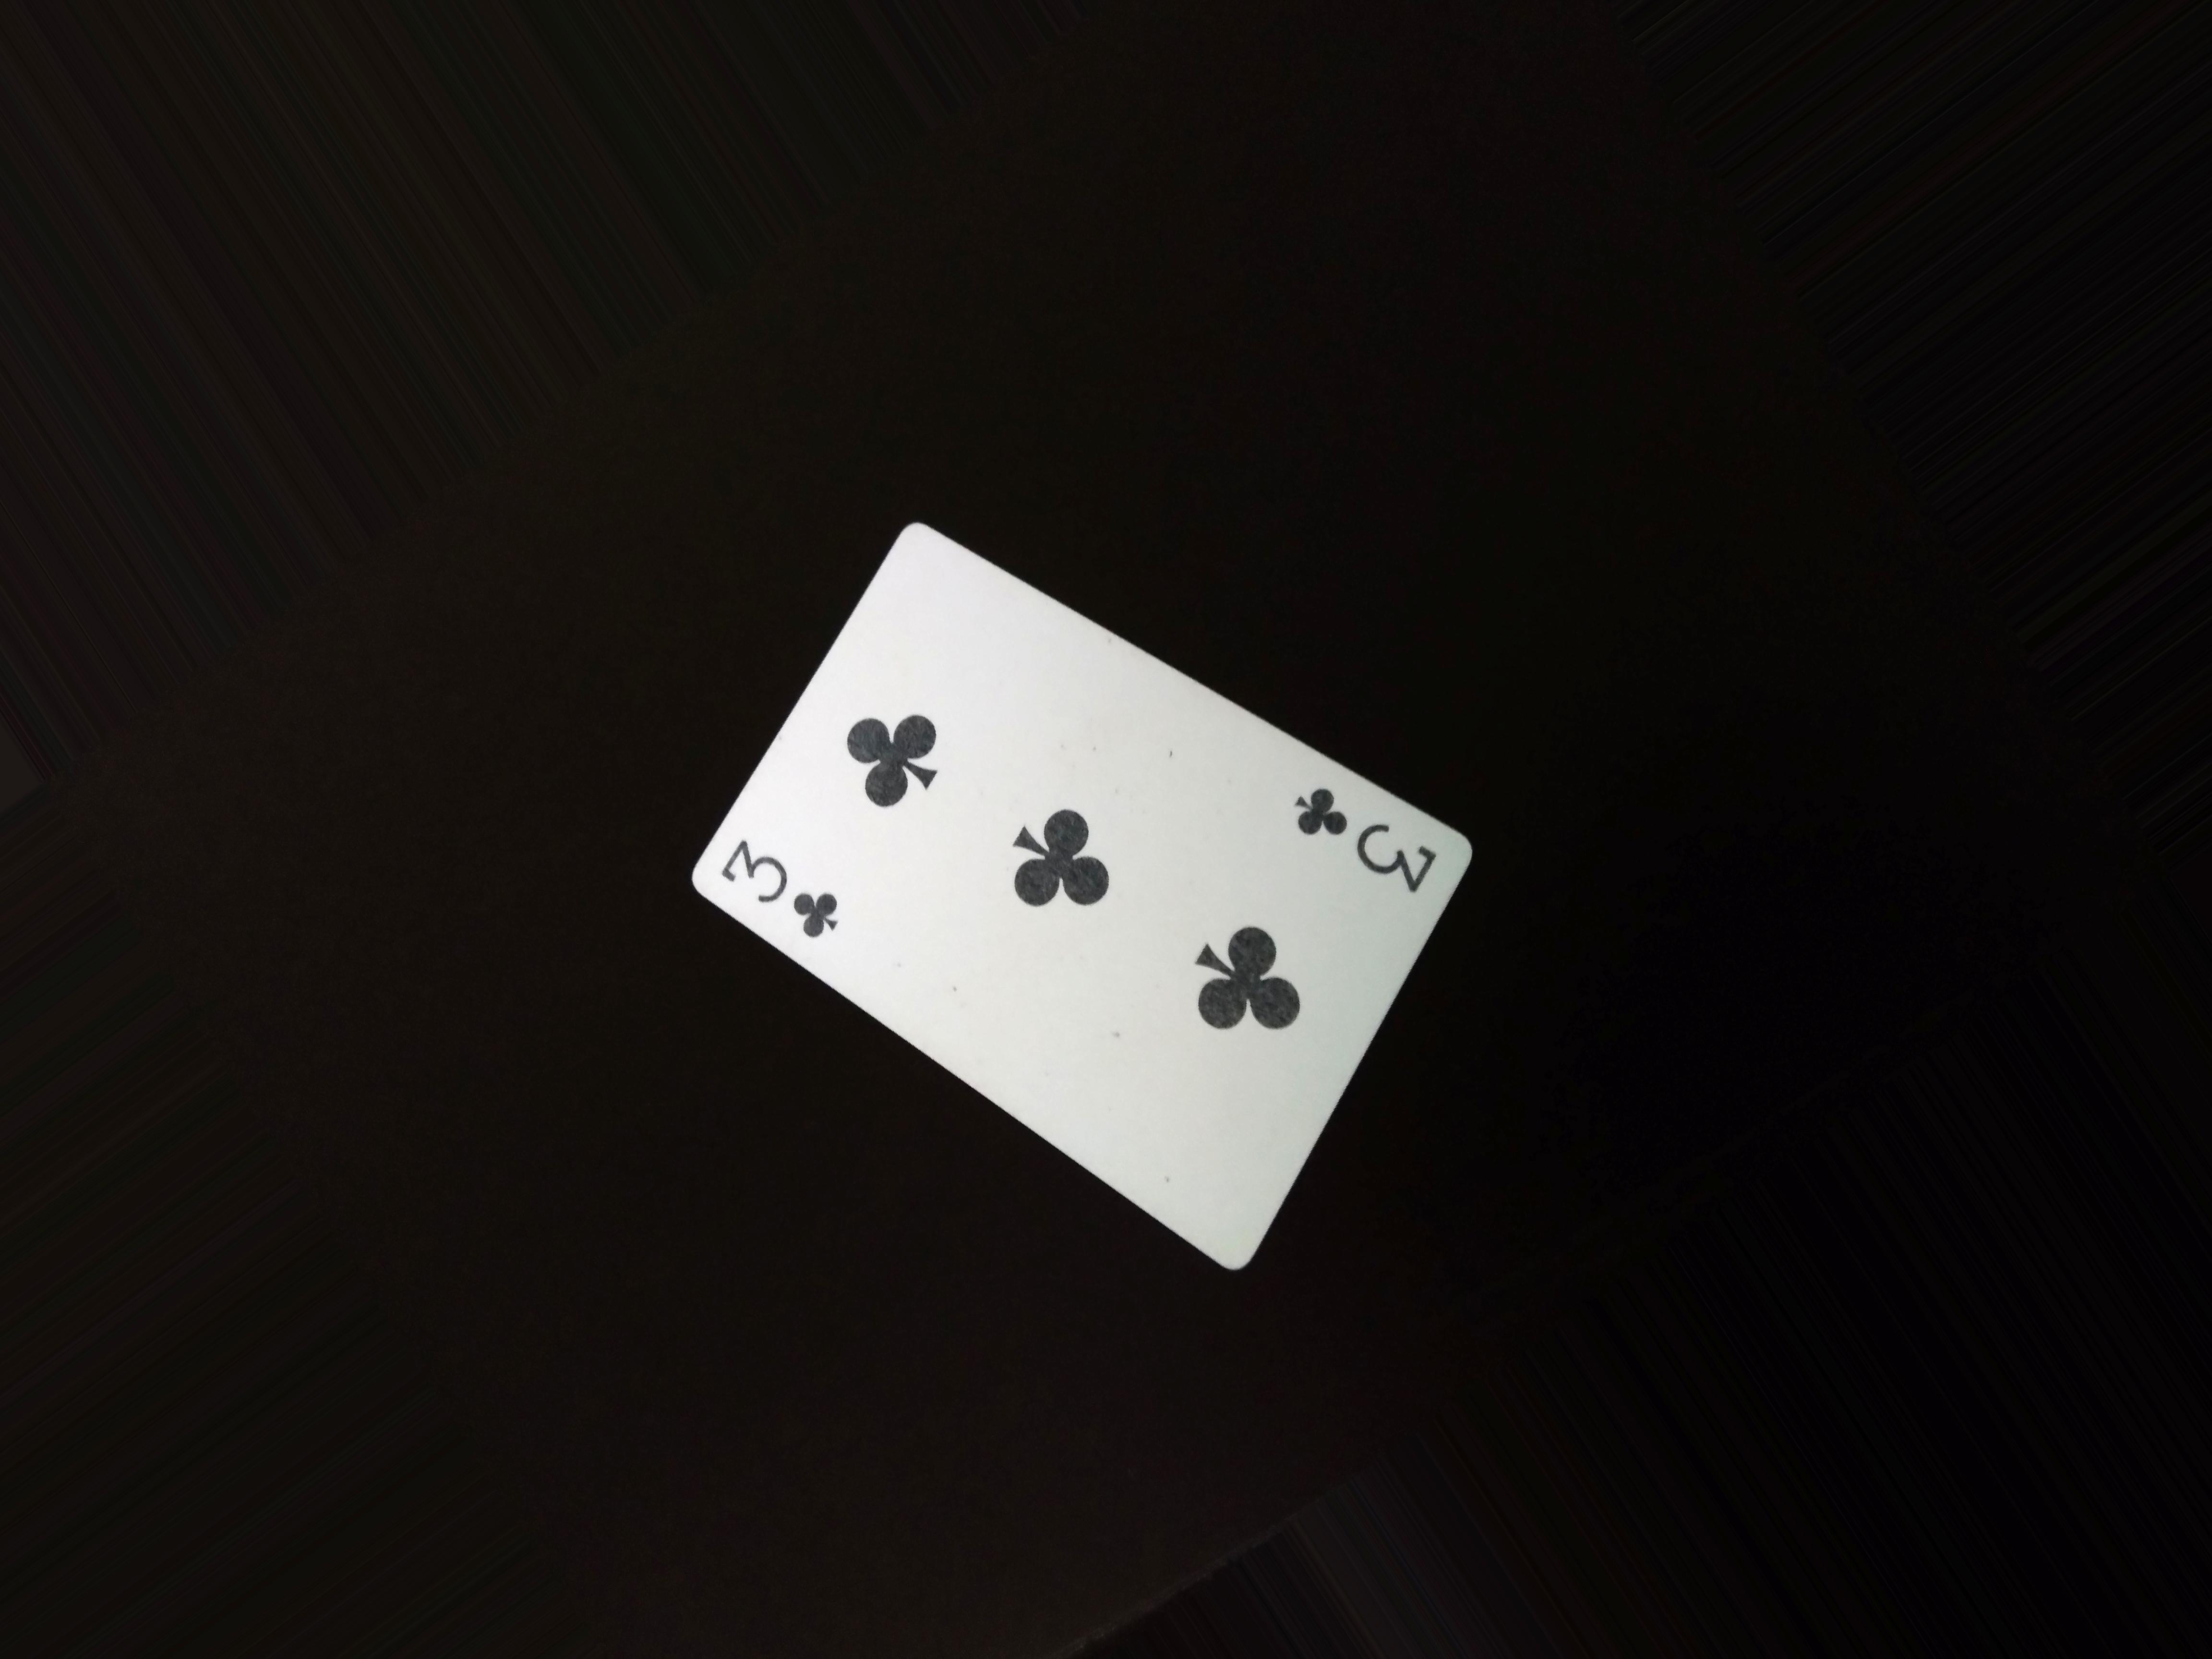3C: (1273, 777, 1472, 917)
